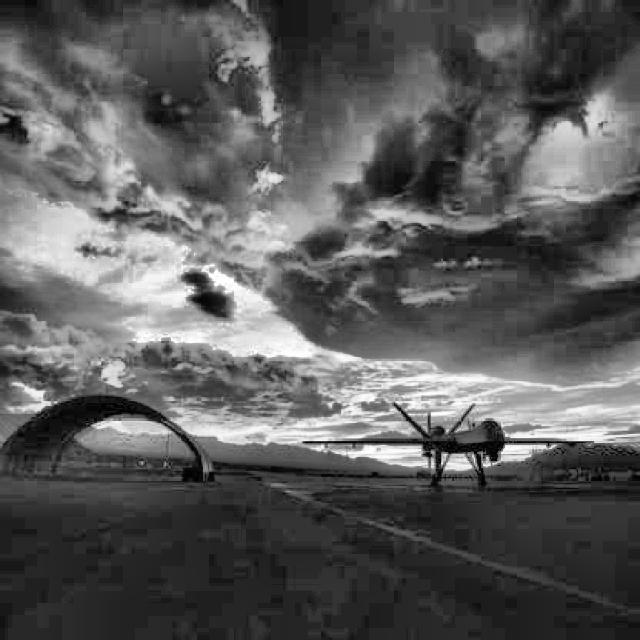MQ9: (300, 402, 594, 484)
